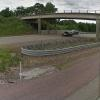Bridge: (15, 3, 99, 27)
